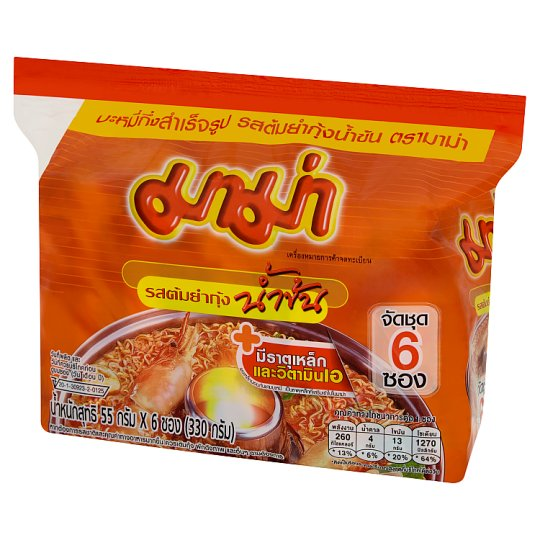Snack: (5, 51, 533, 487)
